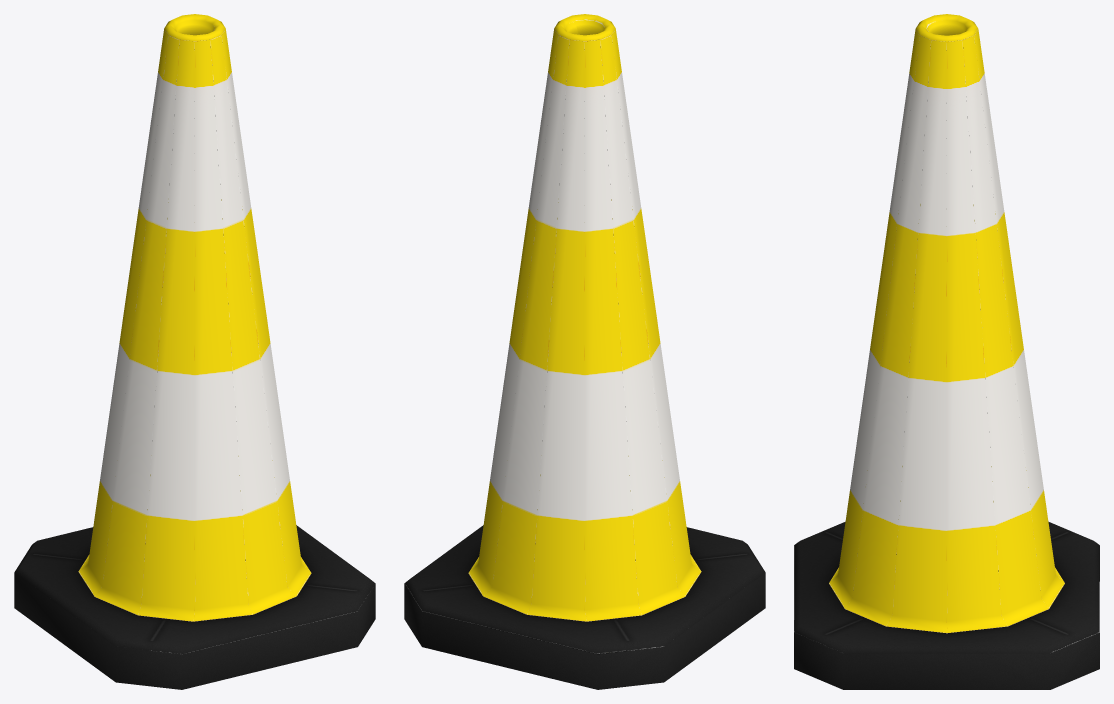
Rendered from construction_cone_y.dae.
The picture shows the model from 3 angles, left to right: view 1: azimuth 30°, elevation 25°; view 2: azimuth 150°, elevation 25°; view 3: azimuth 270°, elevation 25°; orthographic projection.
Parts seen in each view (by area): view 1: Box001; view 2: Box001; view 3: Box001.
Boxes of the visible parts, x1,y1,x2,y2 form: Box001: (14,14,375,689); Box001: (404,14,765,689); Box001: (794,14,1099,689).
Size of the model in its own units: 1.98 by 1.98 by 4.29.
Materials: 1 (1 with a texture image).
